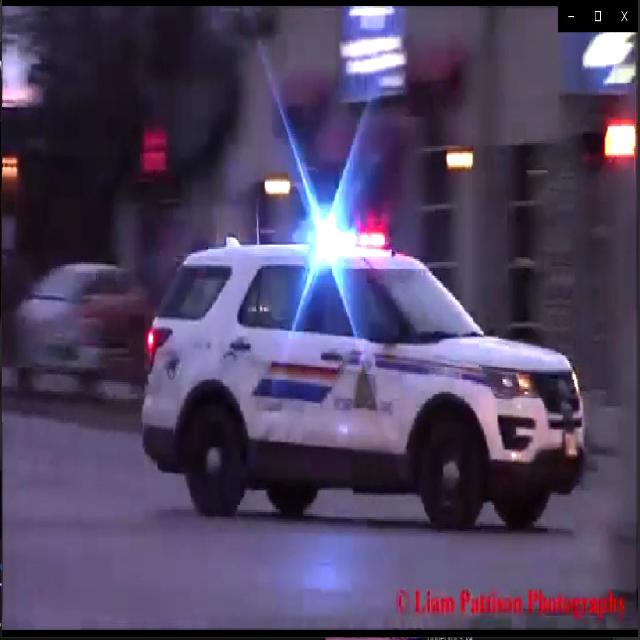emergency: (143, 204, 588, 540)
